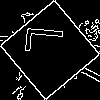L: (25, 25, 73, 56)
